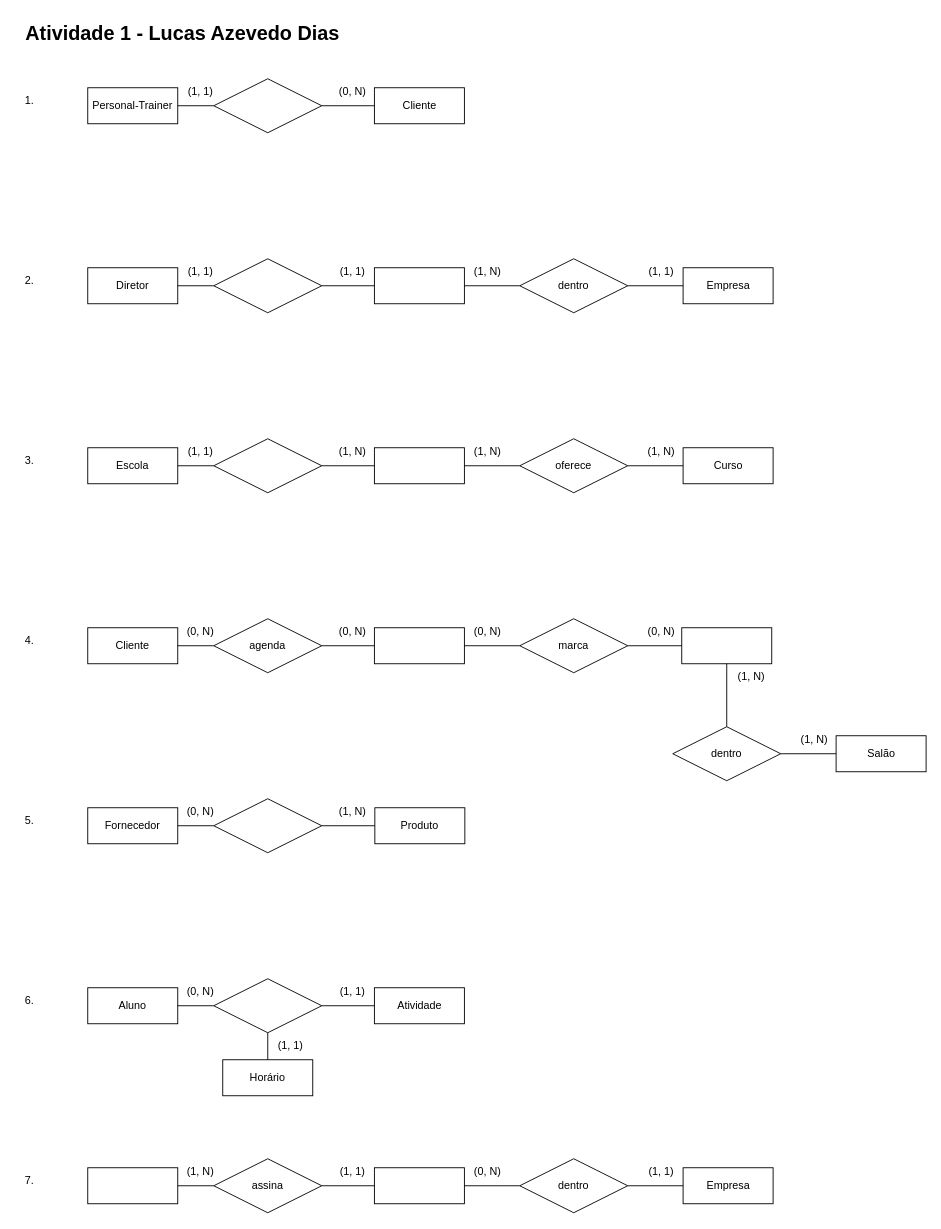
The diagram is 941 pixels wide and 1229 high, and some of its shapes have lost their labels. The shapes that lost their labels are listed below. From the top down, each one's centre as x and y in pixels, then its label:
(267,105): atende
(267,285): chefia
(419,285): Área
(267,465): possui
(419,465): Filial
(419,645): Atendimento
(726,645): Serviço
(267,825): fornece
(267,1005): matricula
(132,1185): Profissional
(419,1185): Contrato
